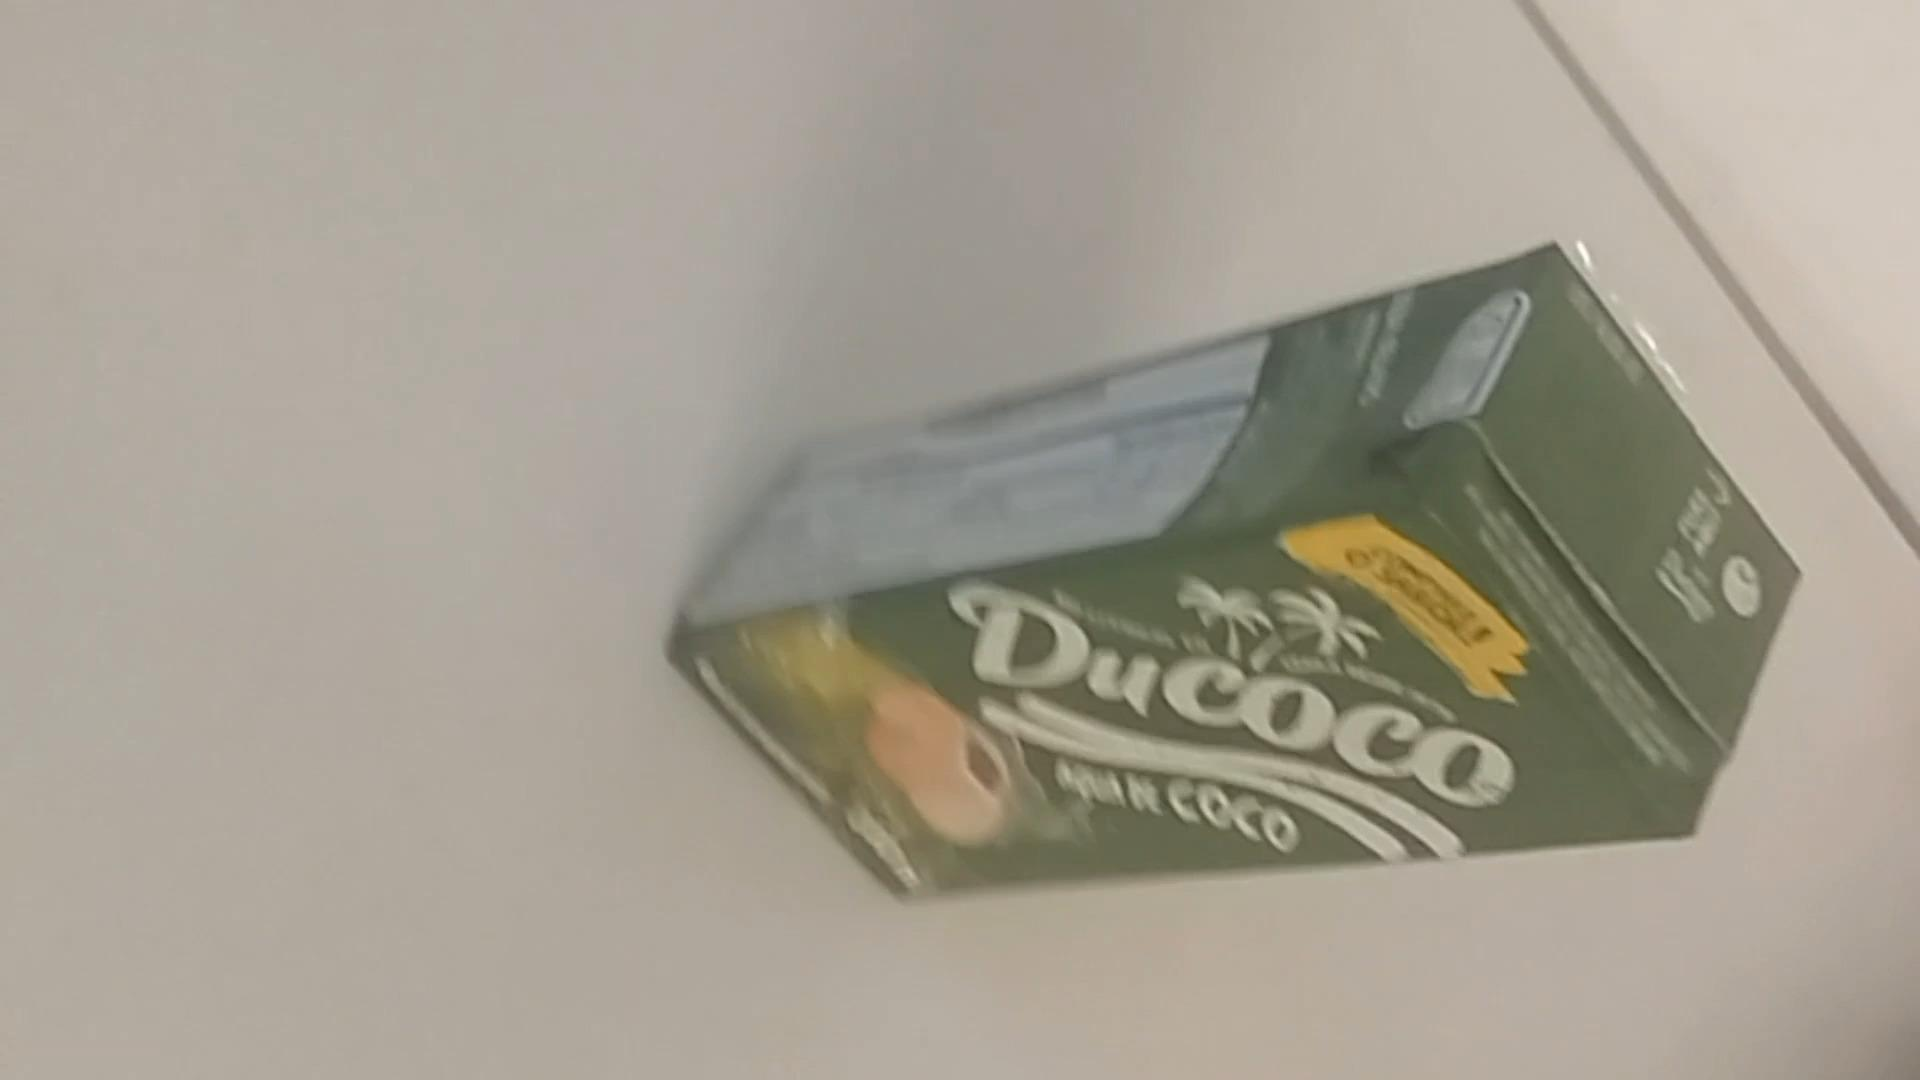coco: (678, 248, 1797, 910)
